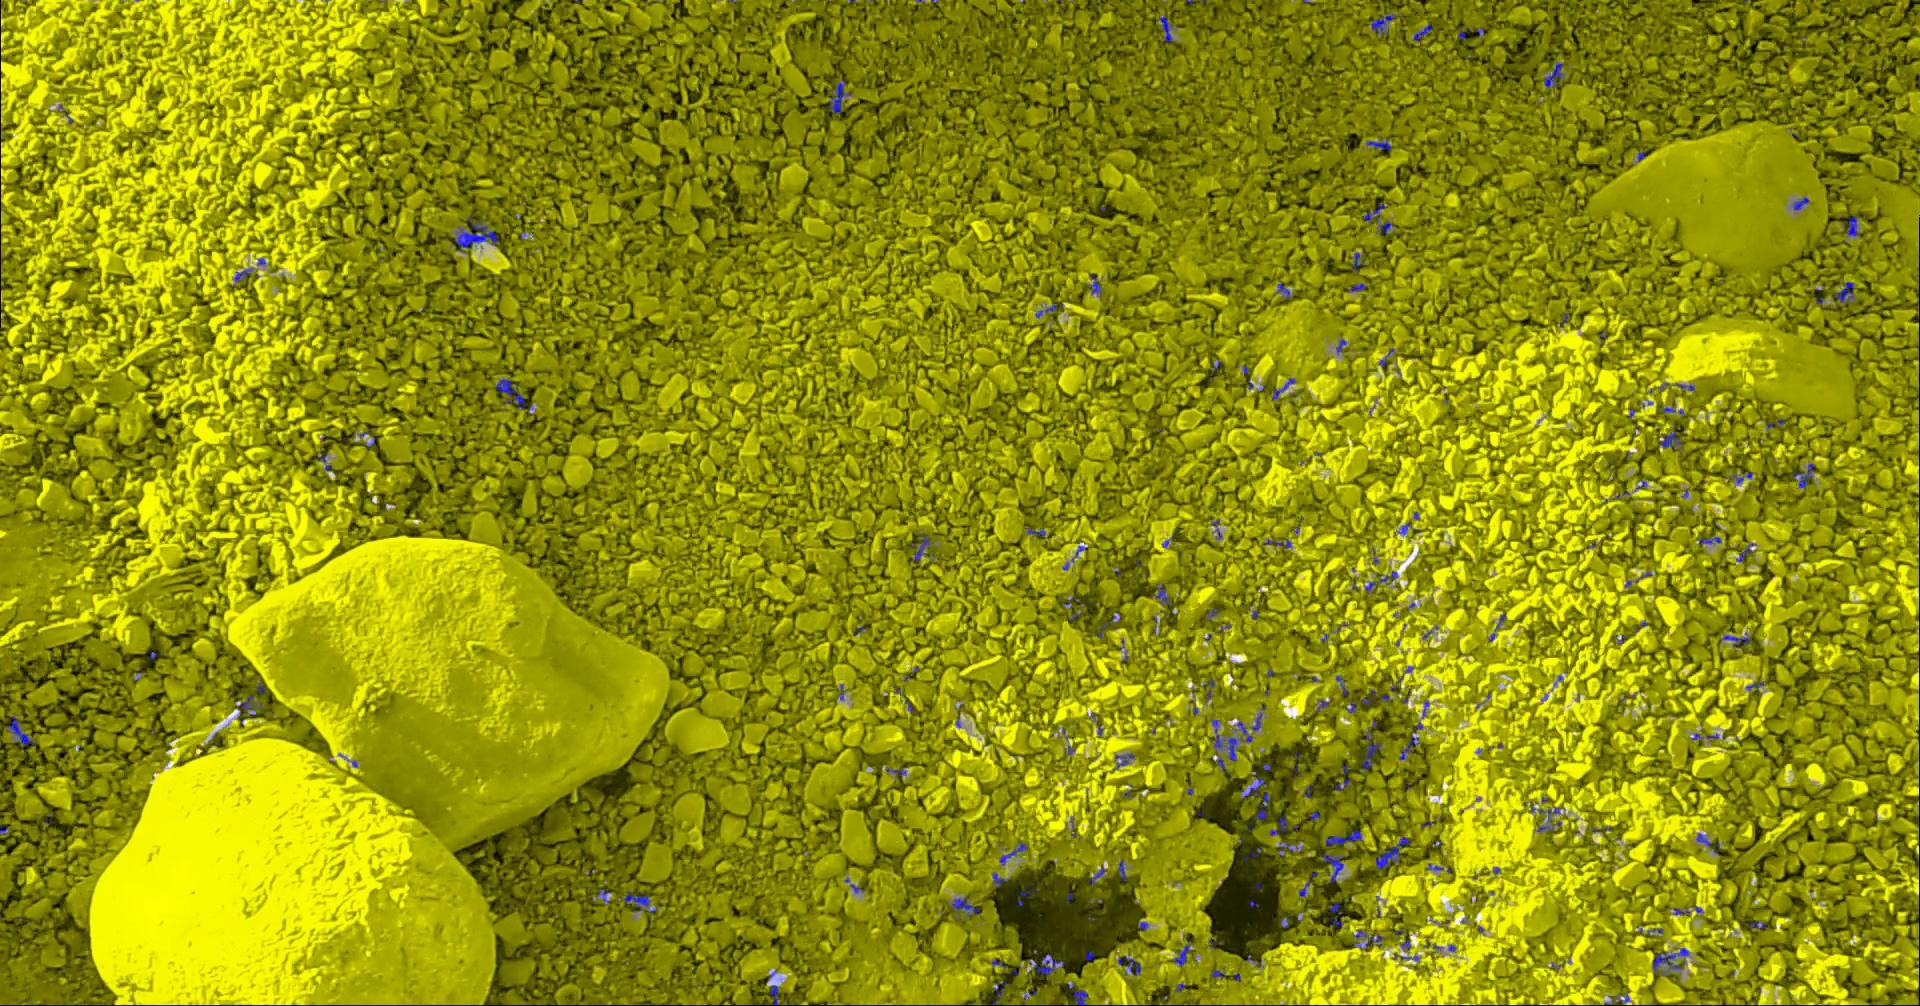ant: (1211, 719, 1252, 761), (455, 217, 498, 251), (1375, 836, 1410, 868), (825, 79, 851, 116), (494, 379, 524, 409), (1398, 721, 1422, 760), (1652, 948, 1688, 973), (6, 715, 36, 744), (1361, 728, 1382, 768), (618, 890, 657, 912), (1029, 951, 1064, 974), (236, 695, 262, 724), (950, 897, 982, 920), (1321, 852, 1343, 883), (1241, 771, 1266, 798), (1364, 570, 1397, 591), (1370, 13, 1401, 34), (999, 842, 1026, 865), (1324, 829, 1361, 845), (1352, 929, 1382, 948), (1271, 377, 1295, 400), (1792, 464, 1815, 486), (1658, 424, 1680, 448), (910, 535, 930, 561), (1543, 62, 1563, 86), (1719, 631, 1751, 647), (1173, 940, 1191, 967), (1363, 202, 1385, 222), (1834, 281, 1854, 304), (1529, 805, 1559, 821), (1117, 955, 1140, 976), (1298, 871, 1317, 895), (990, 981, 1010, 1005), (1067, 983, 1087, 1005), (1016, 885, 1036, 906), (1255, 791, 1269, 821), (1735, 542, 1755, 561), (1158, 15, 1172, 42), (1269, 815, 1288, 835), (1153, 584, 1171, 605), (1328, 902, 1342, 926), (1114, 753, 1135, 768), (1394, 929, 1410, 950), (1365, 137, 1390, 150), (1277, 841, 1300, 855), (1035, 304, 1057, 318), (1413, 23, 1431, 39), (1843, 216, 1858, 235), (1087, 274, 1101, 293), (990, 873, 1010, 887), (770, 984, 782, 1005), (1276, 281, 1290, 298), (1263, 539, 1291, 547), (1117, 859, 1128, 883), (1792, 196, 1808, 210), (234, 268, 251, 281), (1352, 251, 1364, 271), (1697, 536, 1719, 542)
